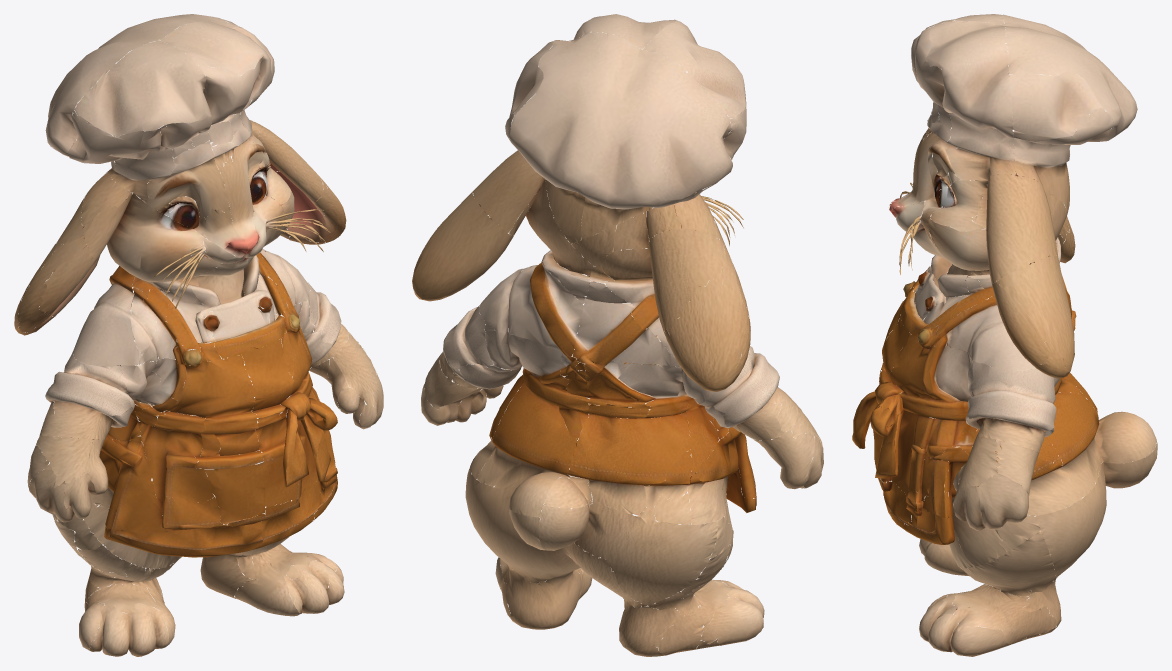
The model's file is 01_bakery_rabbit-v1.glb.
3 views of the same model, side by side, from view 1: azimuth 30°, elevation 25°; view 2: azimuth 150°, elevation 25°; view 3: azimuth 270°, elevation 25° (orthographic). The views are drawn at different scales.
Parts seen in each view (by area): view 1: tripo_node_5cb6d970-984c-4f92-893c-8b922d0eeea1; view 2: tripo_node_5cb6d970-984c-4f92-893c-8b922d0eeea1; view 3: tripo_node_5cb6d970-984c-4f92-893c-8b922d0eeea1.
Part boxes in pixels (x1,y1,x2,y2): tripo_node_5cb6d970-984c-4f92-893c-8b922d0eeea1: (14, 14, 383, 656); tripo_node_5cb6d970-984c-4f92-893c-8b922d0eeea1: (412, 14, 823, 656); tripo_node_5cb6d970-984c-4f92-893c-8b922d0eeea1: (852, 14, 1157, 656).
Bounding box in the file's own units: 1.07 × 1.65 × 0.8043.
1 material, 1 textured.
